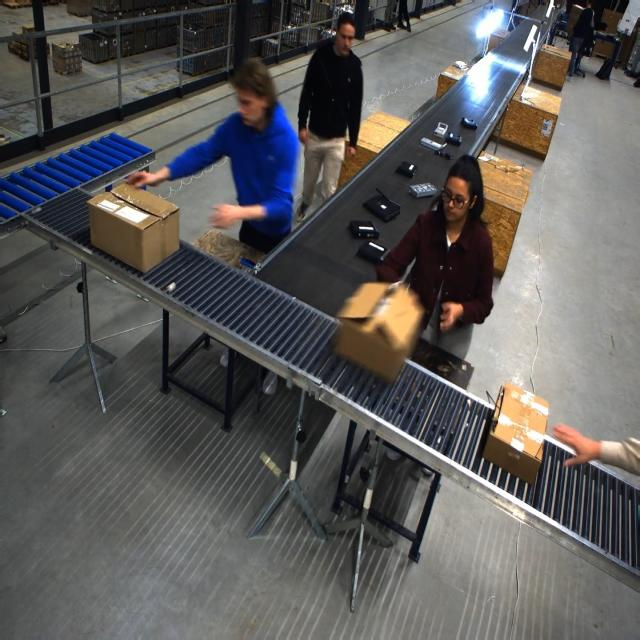box: (88, 184, 181, 275), (334, 284, 418, 378), (481, 385, 547, 483)
product: (362, 192, 399, 222), (357, 240, 389, 264), (349, 219, 378, 240), (408, 183, 436, 198), (395, 161, 417, 178), (420, 137, 445, 151), (434, 122, 449, 138), (445, 132, 462, 146), (460, 117, 477, 130), (435, 148, 454, 159)
